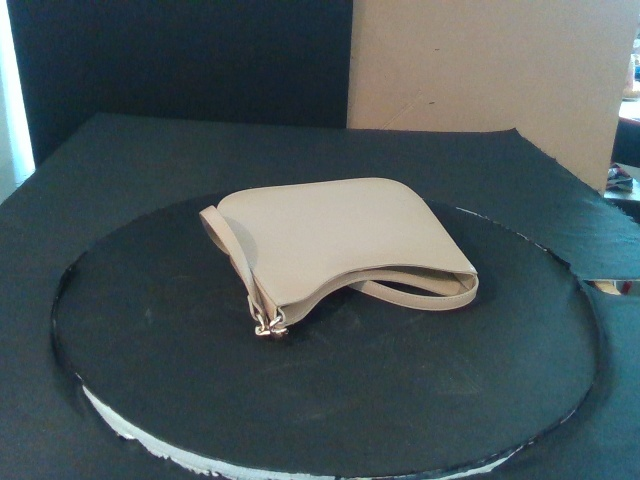bag: (215, 177, 479, 329)
